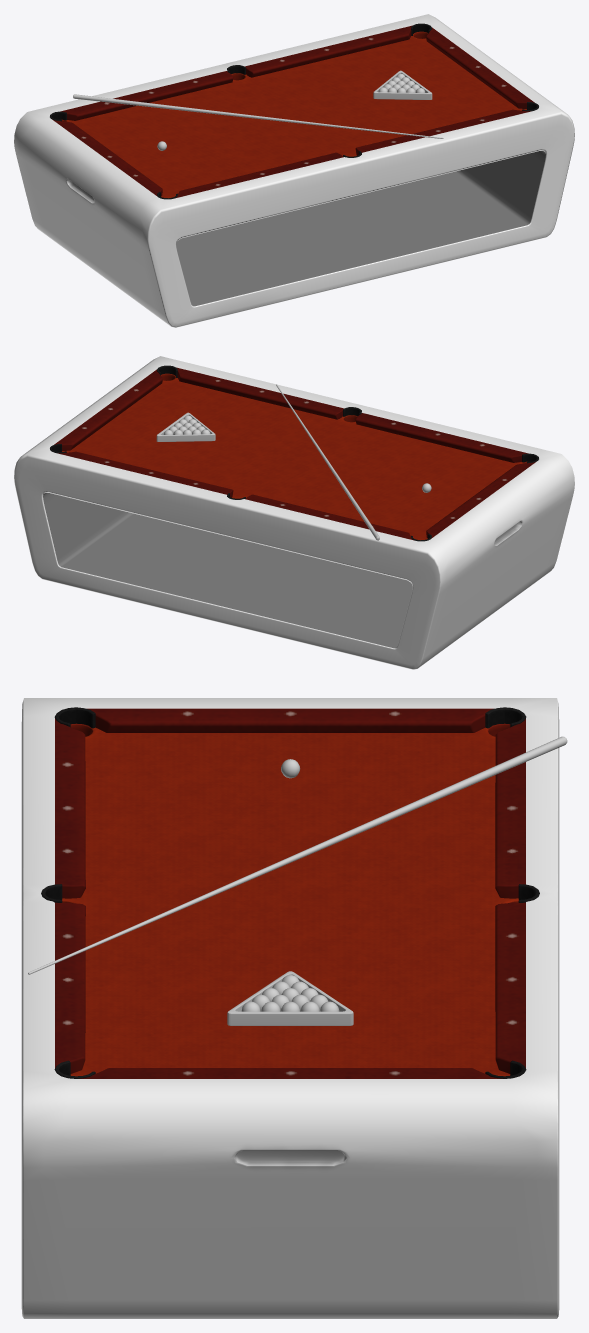
3 views of the same model, one above another, from view 1: azimuth 30°, elevation 25°; view 2: azimuth 150°, elevation 25°; view 3: azimuth 270°, elevation 25° (orthographic). The views are drawn at different scales.
Parts seen in each view (by area): view 1: Table, BillarSurface, Bordes, Cue, Holes, Triangle; view 2: Table, BillarSurface, Bordes, Holes, Triangle, Cue; view 3: Table, BillarSurface, Bordes, Cue, Holes, Triangle.
Boxes of the visible parts, bbox=[...] form: Table: bbox=[14, 14, 574, 327]; BillarSurface: bbox=[62, 31, 526, 198]; Bordes: bbox=[52, 25, 534, 198]; Cue: bbox=[73, 94, 443, 138]; Holes: bbox=[50, 23, 538, 199]; Triangle: bbox=[373, 70, 432, 99]; Table: bbox=[14, 356, 574, 669]; BillarSurface: bbox=[62, 373, 526, 540]; Bordes: bbox=[54, 367, 536, 540]; Holes: bbox=[50, 365, 538, 541]; Triangle: bbox=[156, 412, 215, 441]; Cue: bbox=[276, 384, 379, 540]; Table: bbox=[21, 698, 559, 1318]; BillarSurface: bbox=[62, 723, 518, 1076]; Bordes: bbox=[55, 708, 525, 1078]; Cue: bbox=[28, 736, 567, 974]; Holes: bbox=[41, 707, 539, 1078]; Triangle: bbox=[227, 971, 353, 1025].
Size of the model in its own units: 24.84 by 7.01 by 13.7.
